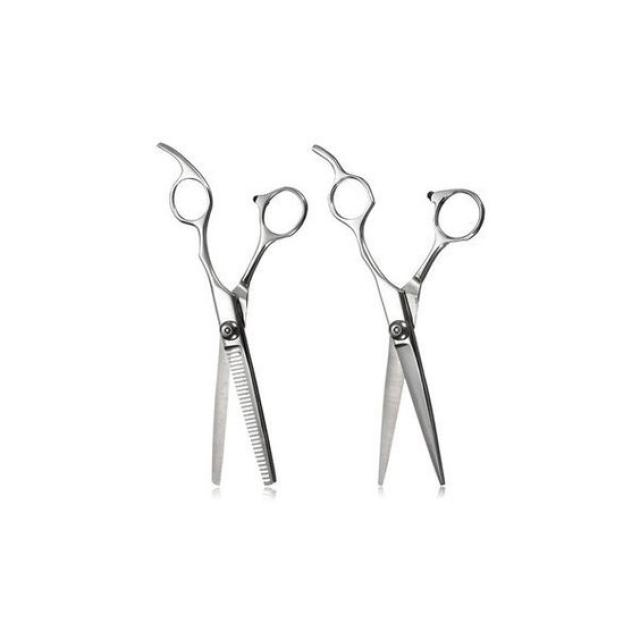scissor: (308, 133, 494, 504)
